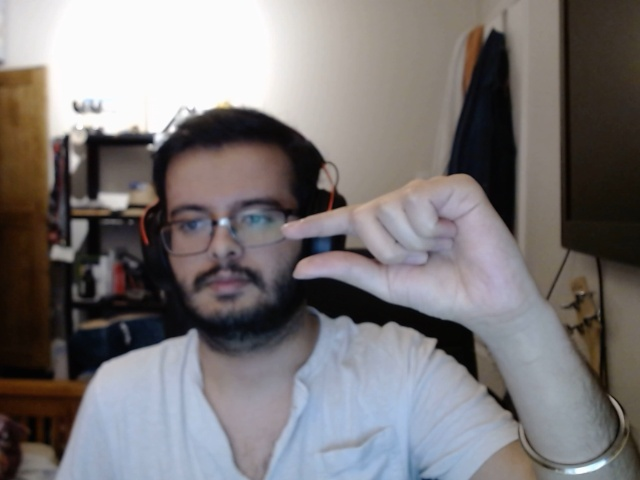Small: (281, 168, 554, 337)
